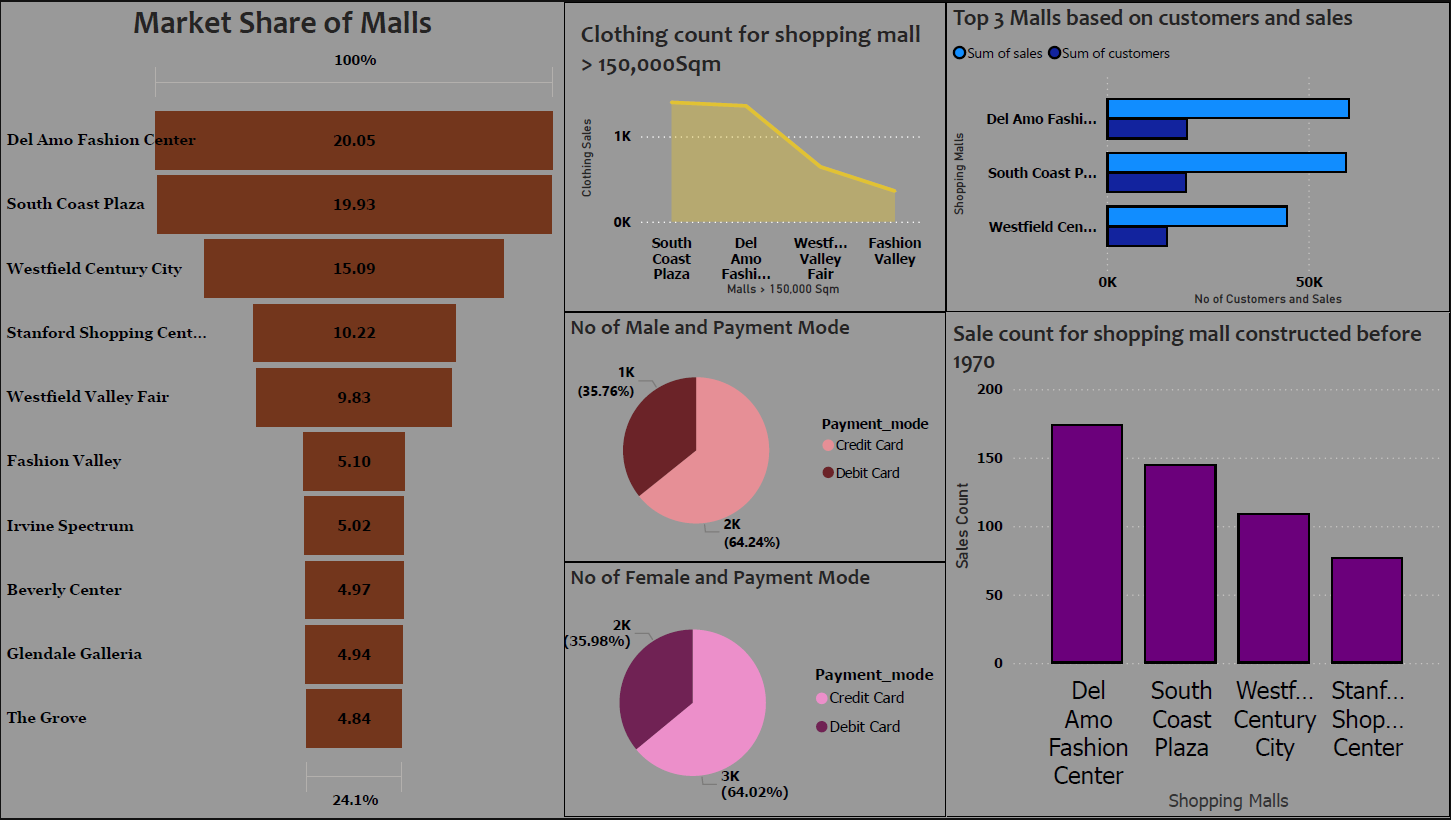

Layout of this report page (visuals, bound fields, positions):
{"tool":"powerbi","page":{"name":"Page 1","canvas":[1280,720],"ordinal":0},"visuals":[{"type":"stackedAreaChart","title":"Clothing count for shopping mall > 150,000Sqm","fields":{"Y":["Sum(Question_1.clothing_count)"],"Category":["Question_1.shopping_mall"]},"box":[497,0,337.5,274.3],"z":0},{"type":"clusteredColumnChart","title":"Sale count for shopping mall constructed before 1970","fields":{"Category":["Question_2.shopping_mall"],"Y":["Sum(Question_2.sale_count)"]},"box":[834.5,274.3,445.5,445.5],"z":1000},{"type":"pieChart","title":"No of Male and Payment Mode","fields":{"Category":["Question_4.payment_mode"],"Y":["Sum(Question_4.male)"]},"box":[497,274.3,337.5,220.8],"z":2000},{"type":"pieChart","title":"No of Female and Payment Mode","fields":{"Category":["Question_4.payment_mode"],"Y":["Sum(Question_4.female)"]},"box":[497,495.1,337.5,224.7],"z":3000},{"type":"funnel","title":"              Market Share of Malls","fields":{"Category":["Question_5.shopping_mall"],"Y":["Sum(Question_5.percentage)"]},"box":[0,0,497,719.8],"z":4000},{"type":"clusteredBarChart","title":"Top 3 Malls based on customers and sales","fields":{"Category":["Question_3.shopping_mall"],"Y":["Sum(Question_3.sales)","Sum(Question_3.customers)"]},"box":[834.9,0,445.1,274.3],"z":5000}]}

Visuals, with their boxes in screenshot pixels (x1, y1, x2, y2), scaled from the page's 1280x720 canvas onto the 1451x820 screenshot:
"Clothing count for shopping mall > 150,000Sqm" stackedAreaChart: x1=563 y1=0 x2=946 y2=312
"Sale count for shopping mall constructed before 1970" clusteredColumnChart: x1=946 y1=312 x2=1450 y2=819
"No of Male and Payment Mode" pieChart: x1=563 y1=312 x2=946 y2=564
"No of Female and Payment Mode" pieChart: x1=563 y1=564 x2=946 y2=819
"              Market Share of Malls" funnel: x1=0 y1=0 x2=563 y2=819
"Top 3 Malls based on customers and sales" clusteredBarChart: x1=946 y1=0 x2=1450 y2=312
